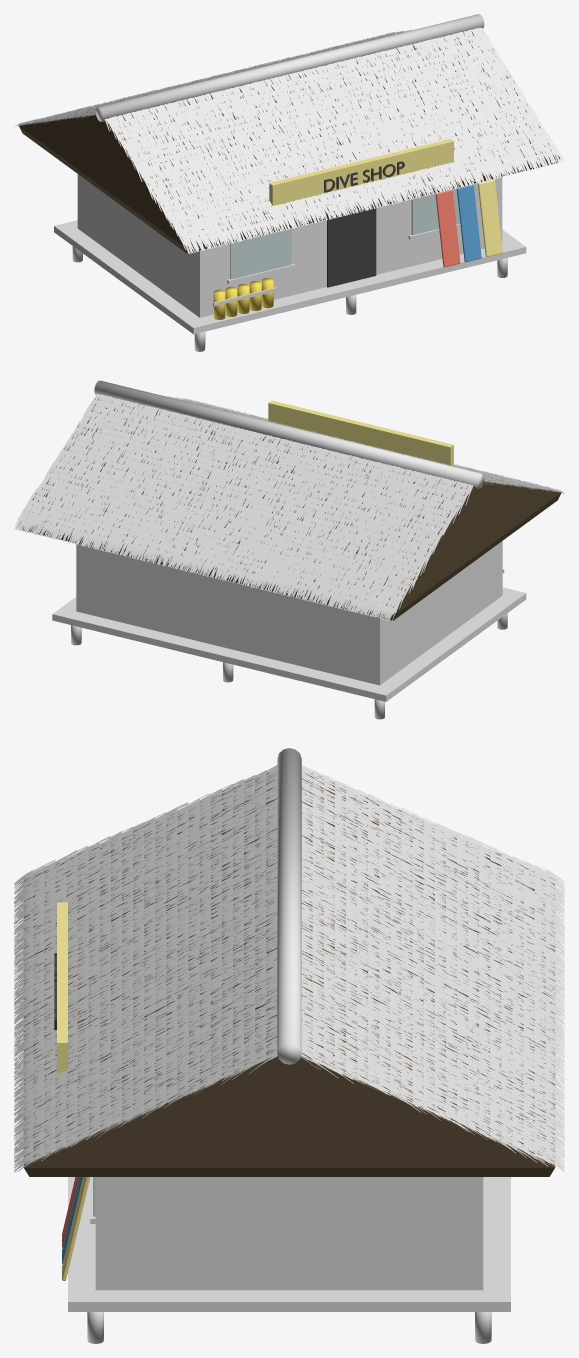
File: DiveShop.fbx
3 renders of one model, top to bottom at view 1: azimuth 30°, elevation 25°; view 2: azimuth 150°, elevation 25°; view 3: azimuth 270°, elevation 25°, orthographic. The views are drawn at different scales.
Parts seen in each view (by area): view 1: DiveShop_LOD0; view 2: DiveShop_LOD0; view 3: DiveShop_LOD0.
Part boxes in pixels (x1=…): DiveShop_LOD0: x1=15, y1=14, x2=564, y2=351; DiveShop_LOD0: x1=14, y1=380, x2=564, y2=719; DiveShop_LOD0: x1=14, y1=748, x2=564, y2=1343.
Size of what is drawn, in the model's own units: 12.6 by 6.54 by 9.95.
